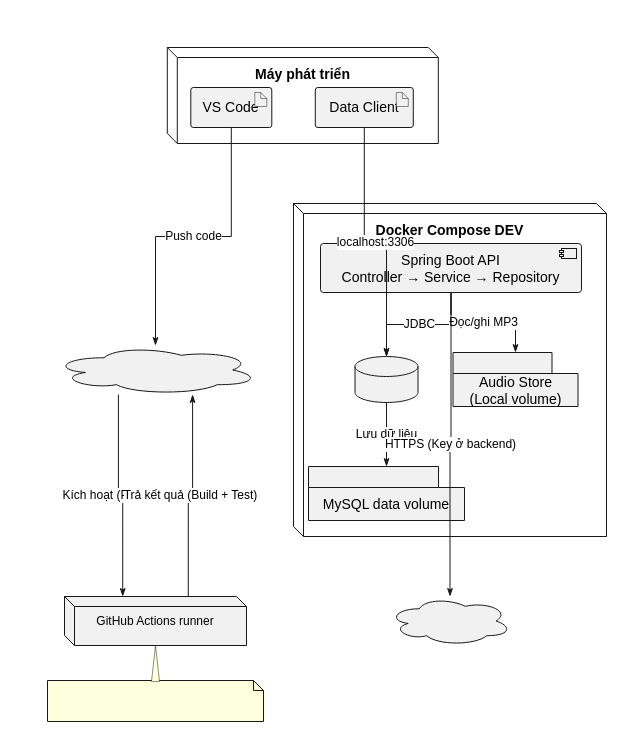
Some shapes in this 624 by 739 pixel diagram are drawn without their labels. Here are the shapes that lost their labels. From the top down, the centre of each, then its label:
the point at 155,369: GitHub private repository
the point at 386,379: MySQL
the point at 450,621: VoiceRSS API
the point at 155,701: CI trong MVP; chưa tự động deploy production.
